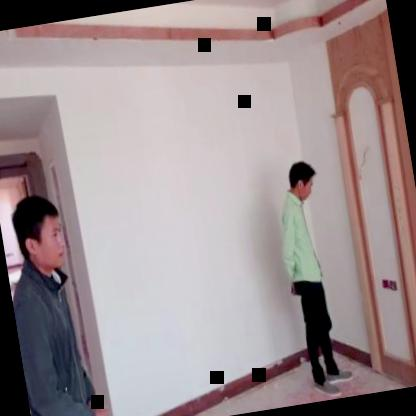head: (9, 187, 74, 280), (282, 156, 321, 204)
